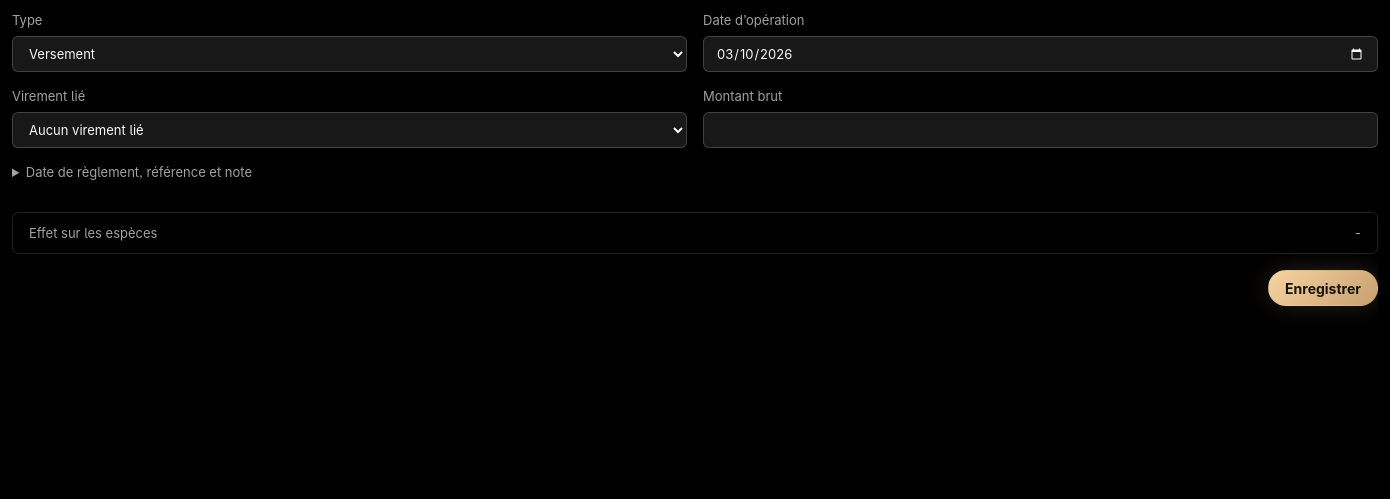
OperationForm › focuses the type first and renders only the fields of the chosen type
This screenshot has width=1390, height=499.
Expected: the field labelled "Montant brut" is shown, [703, 112, 1378, 148]
Expected: the field labelled "Quantité" is not shown
Select "Achat" in the dropdown labelled "Type" at {"x": 350, "y": 54}, box [12, 36, 687, 72]
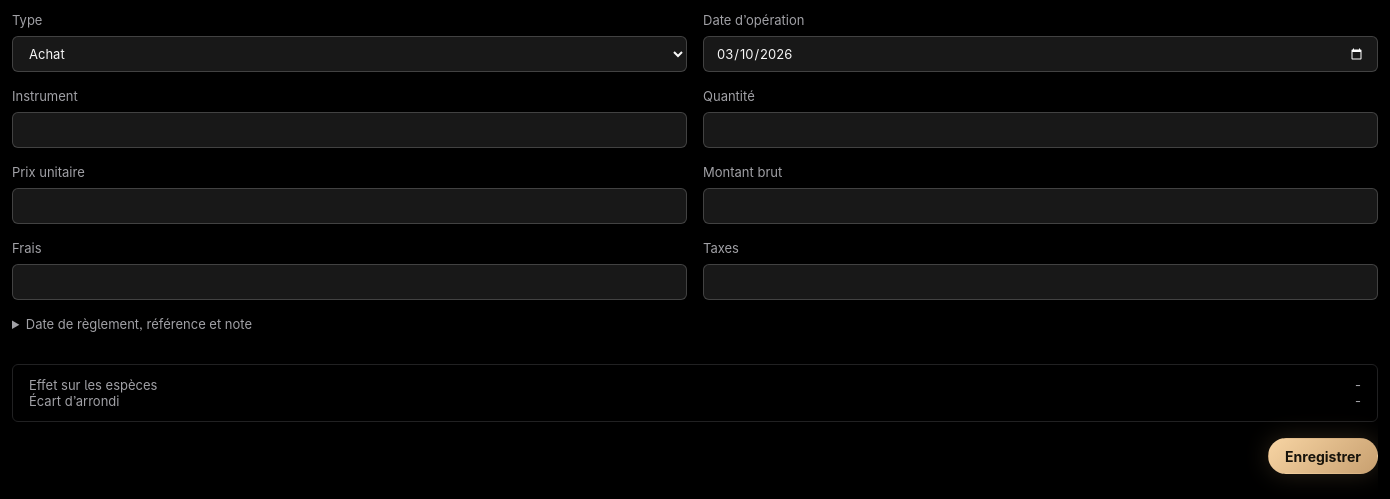
Now the dropdown labelled "Instrument" is shown, box [12, 112, 687, 148]
Now the field labelled "Prix unitaire" is shown, box [12, 188, 687, 224]
Now the field labelled "Frais" is shown, box [12, 264, 687, 300]
